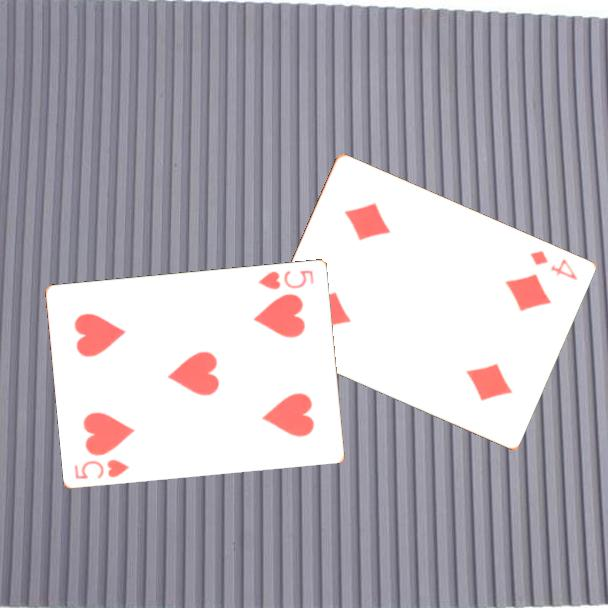d04: (526, 247, 580, 283)
h05: (255, 266, 317, 292), (71, 456, 132, 482)
